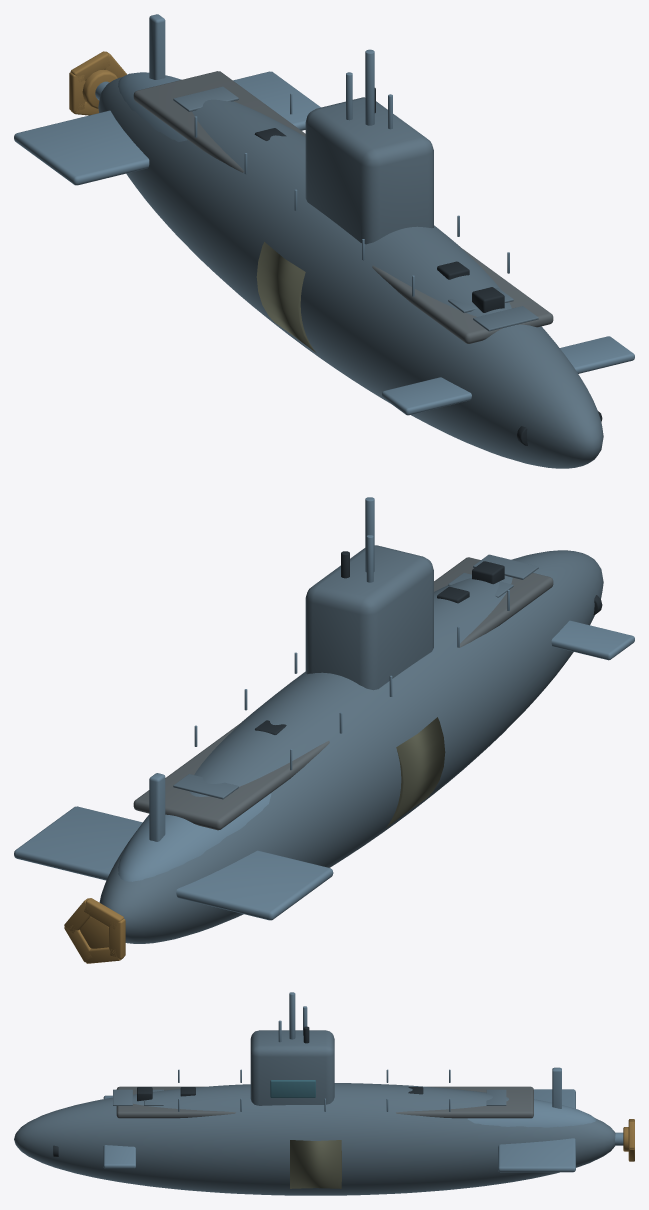
Rendered from hero-submarine-lod0.glb.
The picture shows the model from 3 angles, top to bottom: view 1: azimuth 30°, elevation 25°; view 2: azimuth 150°, elevation 25°; view 3: azimuth 270°, elevation 25°; orthographic projection. The views are drawn at different scales.
Visible parts, largest first — view 1: pressure-hull, rounded-sail, stern-horizontal-plane, deck-casing, bow-diving-planes, waterline-grime-band, upper-hull-wet-sheen, stern-rudder, maintenance-panel-0, maintenance-panel-6, attack-periscope, ventilation-fairing-0 (+1 smaller); view 2: pressure-hull, rounded-sail, stern-horizontal-plane, deck-casing, upper-hull-wet-sheen, waterline-grime-band, bow-diving-planes, stern-rudder, maintenance-panel-6, maintenance-panel-0, propeller-hub; view 3: pressure-hull, rounded-sail, deck-casing, stern-horizontal-plane, waterline-grime-band, upper-hull-wet-sheen, bridge-window-band, bow-diving-planes, stern-rudder, maintenance-panel-0, attack-periscope, maintenance-panel-6.
Boxes of the visible parts, <box> form: pressure-hull: <box>98,77,603,468</box>; rounded-sail: <box>305,97,433,244</box>; stern-horizontal-plane: <box>14,71,320,185</box>; deck-casing: <box>133,71,553,343</box>; bow-diving-planes: <box>382,336,634,415</box>; waterline-grime-band: <box>256,242,315,352</box>; upper-hull-wet-sheen: <box>118,72,187,141</box>; stern-rudder: <box>149,14,165,79</box>; maintenance-panel-0: <box>473,306,538,331</box>; maintenance-panel-6: <box>173,86,238,111</box>; attack-periscope: <box>365,49,374,125</box>; ventilation-fairing-0: <box>472,287,504,312</box>; pressure-hull: <box>99,550,603,943</box>; rounded-sail: <box>305,545,433,690</box>; stern-horizontal-plane: <box>14,806,333,920</box>; deck-casing: <box>133,557,553,830</box>; upper-hull-wet-sheen: <box>118,793,271,881</box>; waterline-grime-band: <box>385,717,445,828</box>; bow-diving-planes: <box>551,620,634,660</box>; stern-rudder: <box>149,773,165,841</box>; maintenance-panel-6: <box>173,774,238,799</box>; maintenance-panel-0: <box>473,554,538,579</box>; propeller-hub: <box>80,916,108,948</box>; pressure-hull: <box>14,1083,615,1195</box>; rounded-sail: <box>250,1030,334,1105</box>; deck-casing: <box>116,1086,533,1118</box>; stern-horizontal-plane: <box>498,1089,575,1172</box>; waterline-grime-band: <box>290,1140,341,1188</box>; upper-hull-wet-sheen: <box>467,1099,596,1127</box>; bridge-window-band: <box>270,1080,315,1097</box>; bow-diving-planes: <box>103,1095,135,1168</box>; stern-rudder: <box>552,1067,561,1108</box>; maintenance-panel-0: <box>113,1089,132,1105</box>; attack-periscope: <box>289,992,295,1039</box>; maintenance-panel-6: <box>486,1089,506,1105</box>.
Bounding box in the file's own units: 6 × 7.03 × 19.95.
